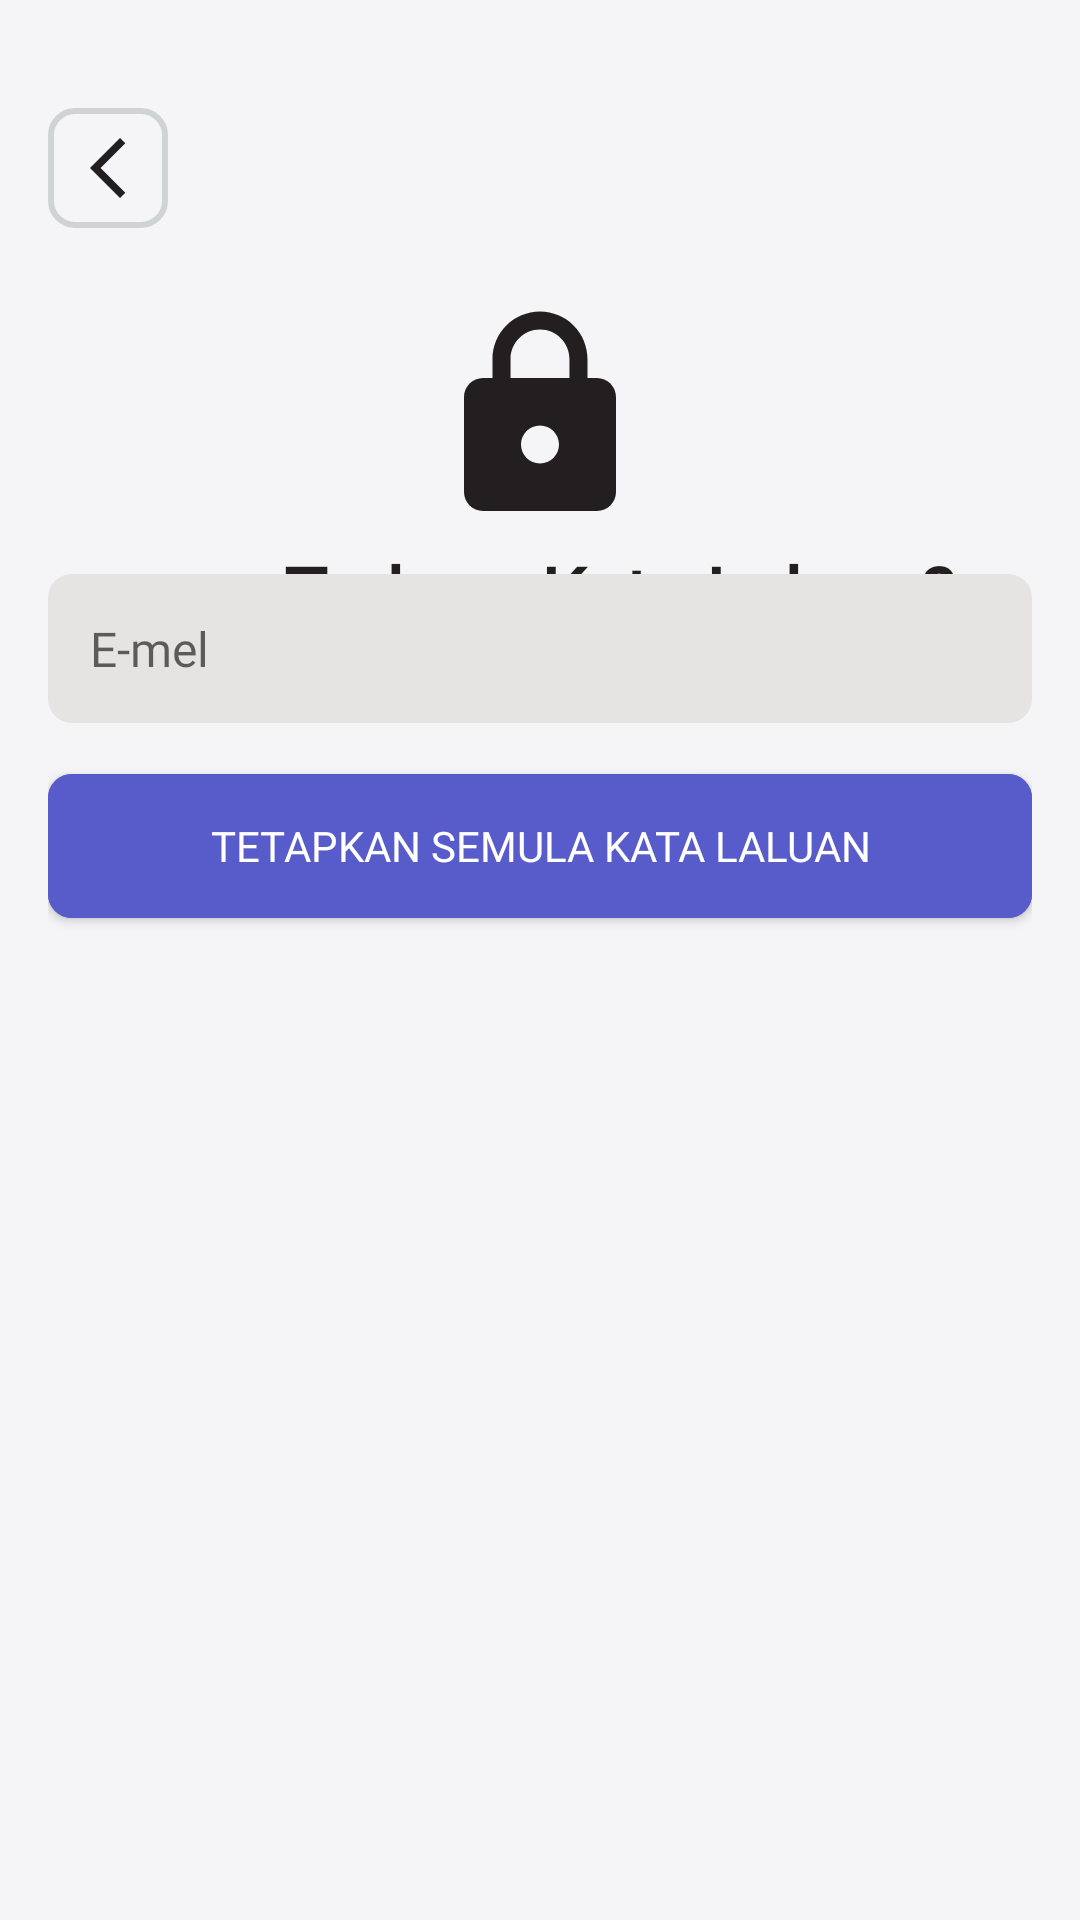

Screen size 1080px×1920px. Icon name, then its center in pixels as (x,y):
Back: (108,168)
lock: (540,411)
